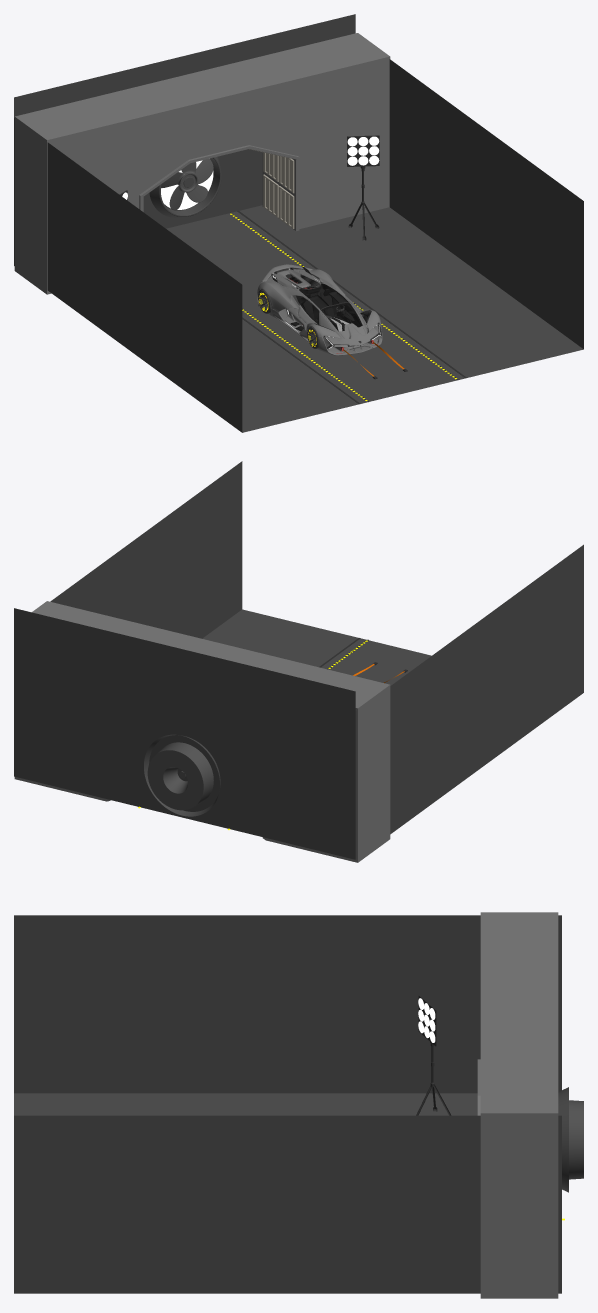
The model's file is 004-free-lamborghini-terzo-millennio-wind-tunnel.glb.
3 renders of one model, top to bottom at view 1: azimuth 30°, elevation 25°; view 2: azimuth 150°, elevation 25°; view 3: azimuth 270°, elevation 25°, orthographic. The views are drawn at different scales.
Parts seen in each view (by area): view 1: Sol_0, Fond_1, chassis_carpaint_LOD2_51, Grilles_2, Circle_4, glass_glass_LOD2_96, Plane.002_144, chassis_details_LOD2_53, Elice_5, glass_detachable_glass_LOD2_98, Plane_6; view 2: Sol_0, Fond_1, Circle_4; view 3: Sol_0, Fond_1, Circle_4, Plane.002_144.
Boxes of the visible parts, x1,y1,x2,y2 form: Sol_0: (14, 14, 583, 432); Fond_1: (14, 33, 390, 294); chassis_carpaint_LOD2_51: (257, 269, 382, 355); Grilles_2: (249, 149, 294, 228); Circle_4: (149, 156, 221, 217); glass_glass_LOD2_96: (299, 283, 380, 348); Plane.002_144: (119, 135, 379, 240); chassis_details_LOD2_53: (270, 268, 380, 353); Elice_5: (161, 159, 213, 210); glass_detachable_glass_LOD2_98: (286, 274, 348, 324); Plane_6: (230, 213, 458, 401); Sol_0: (14, 461, 583, 859); Fond_1: (14, 601, 390, 862); Circle_4: (144, 734, 220, 816); Sol_0: (14, 915, 561, 1293); Fond_1: (477, 912, 558, 1298); Circle_4: (558, 1087, 583, 1192); Plane.002_144: (416, 995, 451, 1115).
Size of the model in its own units: 8.71 by 4.18 by 10.44.
Materials: 29 (2 with a texture image).
